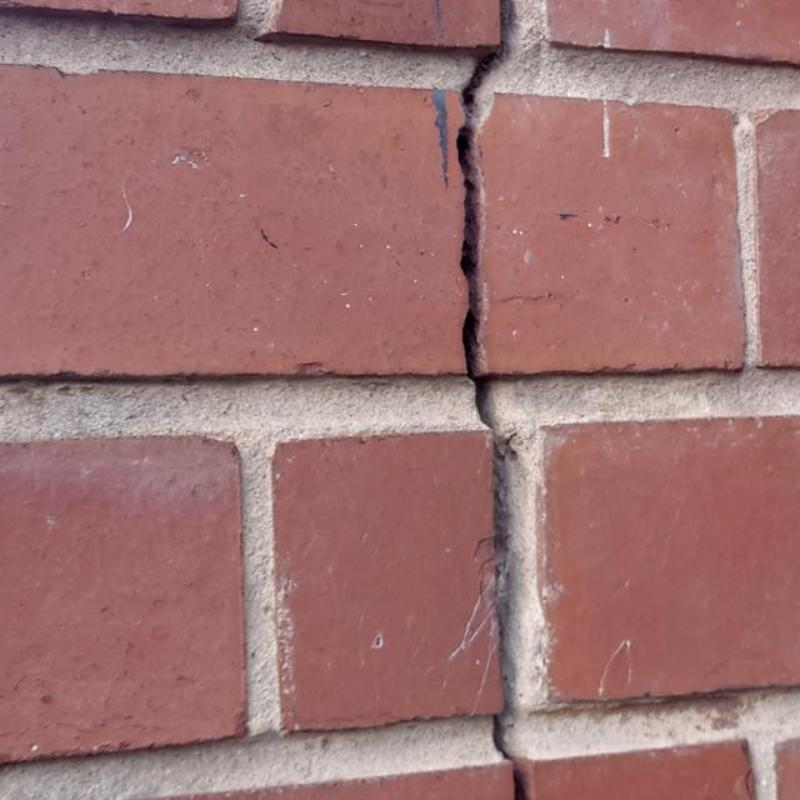pothole: (458, 0, 530, 800)
